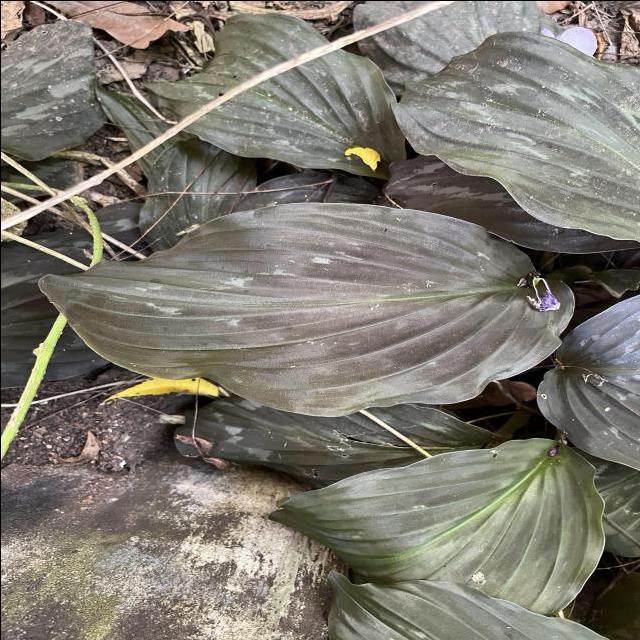Kaempferia galanga linn: (32, 199, 578, 421), (387, 27, 640, 245)
